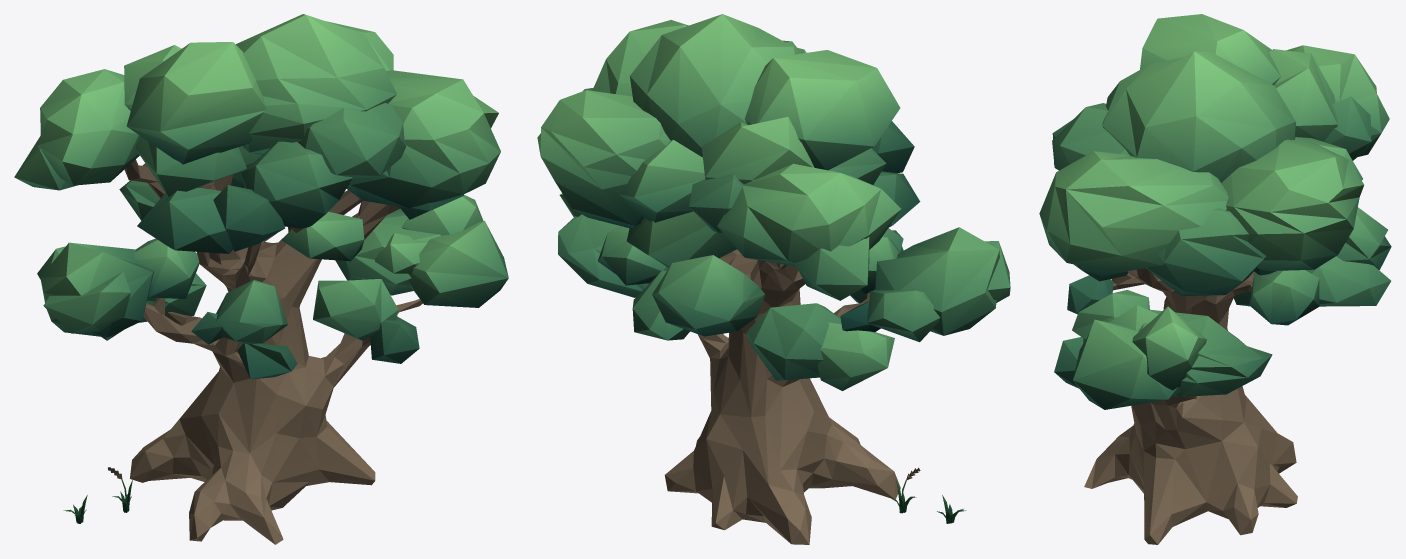
Rendered from tree.obj.
3 views of the same model, side by side, from view 1: azimuth 30°, elevation 25°; view 2: azimuth 150°, elevation 25°; view 3: azimuth 270°, elevation 25° (orthographic).
Parts seen in each view (by area): view 1: fattree; view 2: fattree; view 3: fattree.
Boxes of the visible parts, x1=… form: fattree: x1=14, y1=14, x2=508, y2=544; fattree: x1=537, y1=14, x2=1010, y2=544; fattree: x1=1039, y1=14, x2=1391, y2=544.
Bounding box in the file's own units: 30.35 × 30.88 × 20.64.
